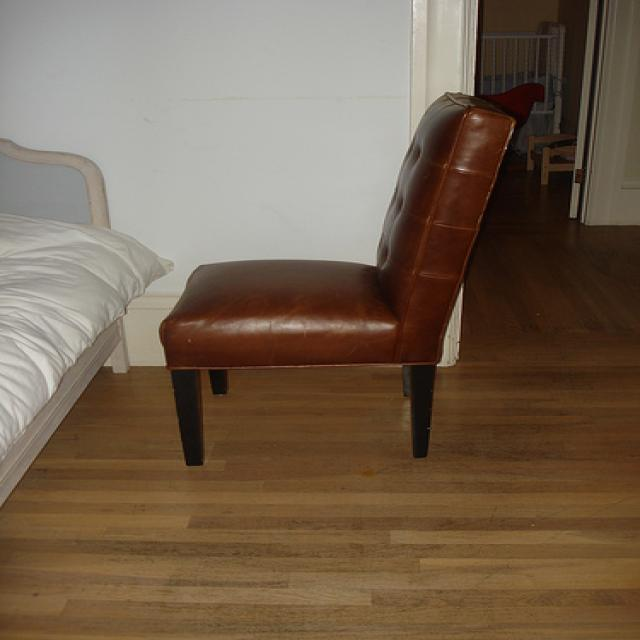bed: (0, 136, 172, 509)
chair: (164, 92, 517, 470)
